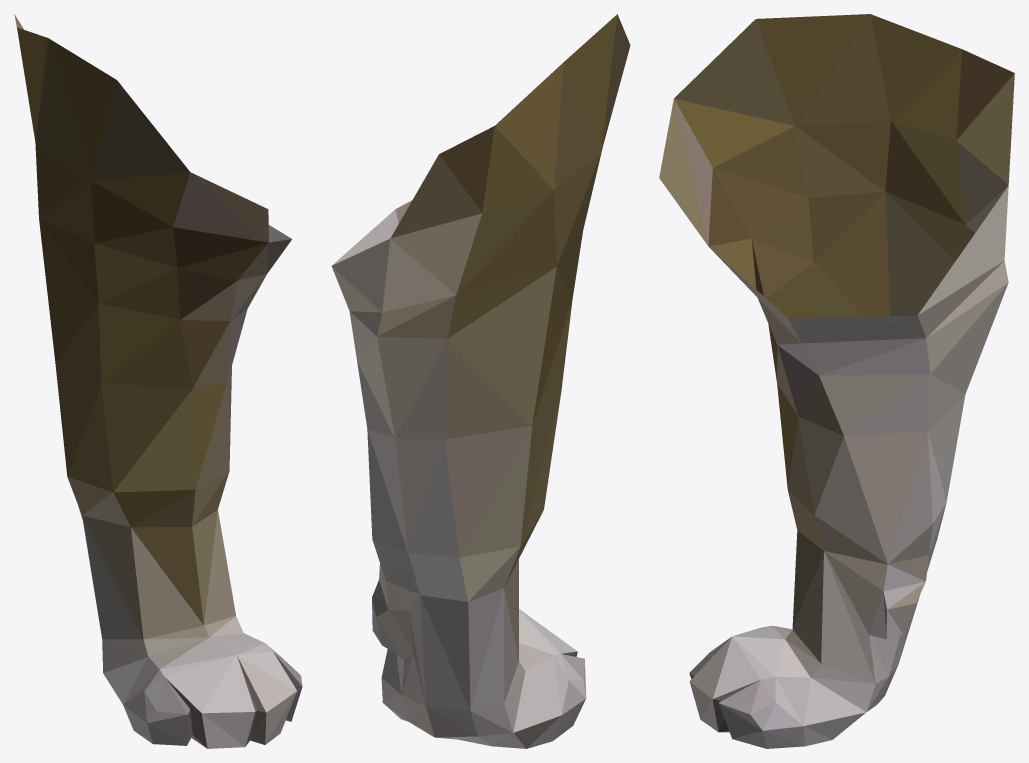
File: PataDelIzq.obj
3 views of the same model, side by side, from view 1: azimuth 30°, elevation 25°; view 2: azimuth 150°, elevation 25°; view 3: azimuth 270°, elevation 25° (orthographic). The views are drawn at different scales.
Visible parts, largest first — view 1: PataDelIzq1:cat_01_color05 group2; view 2: PataDelIzq1:cat_01_color05 group2; view 3: PataDelIzq1:cat_01_color05 group2.
Part boxes in pixels (x1,y1,x2,y2): PataDelIzq1:cat_01_color05 group2: (14, 14, 302, 748); PataDelIzq1:cat_01_color05 group2: (331, 14, 630, 748); PataDelIzq1:cat_01_color05 group2: (659, 14, 1014, 748).
Bounding box in the file's own units: 0.143 × 0.4581 × 0.2264.
1 material, 1 textured.
